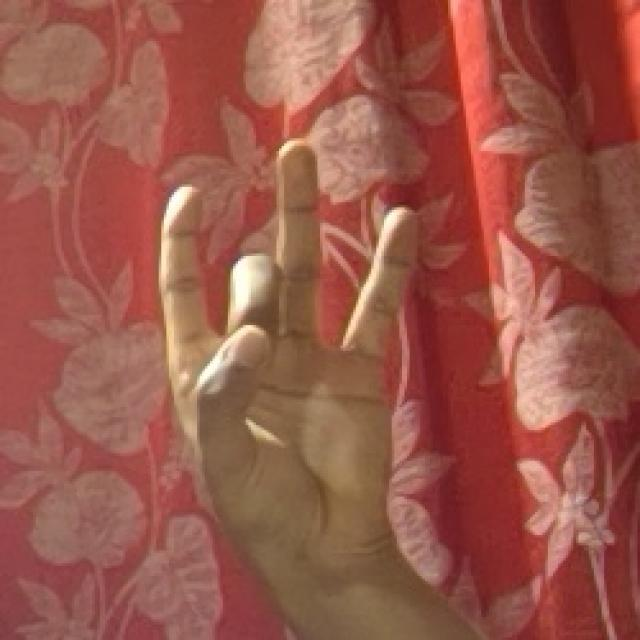Numeric-8: (156, 138, 414, 556)
